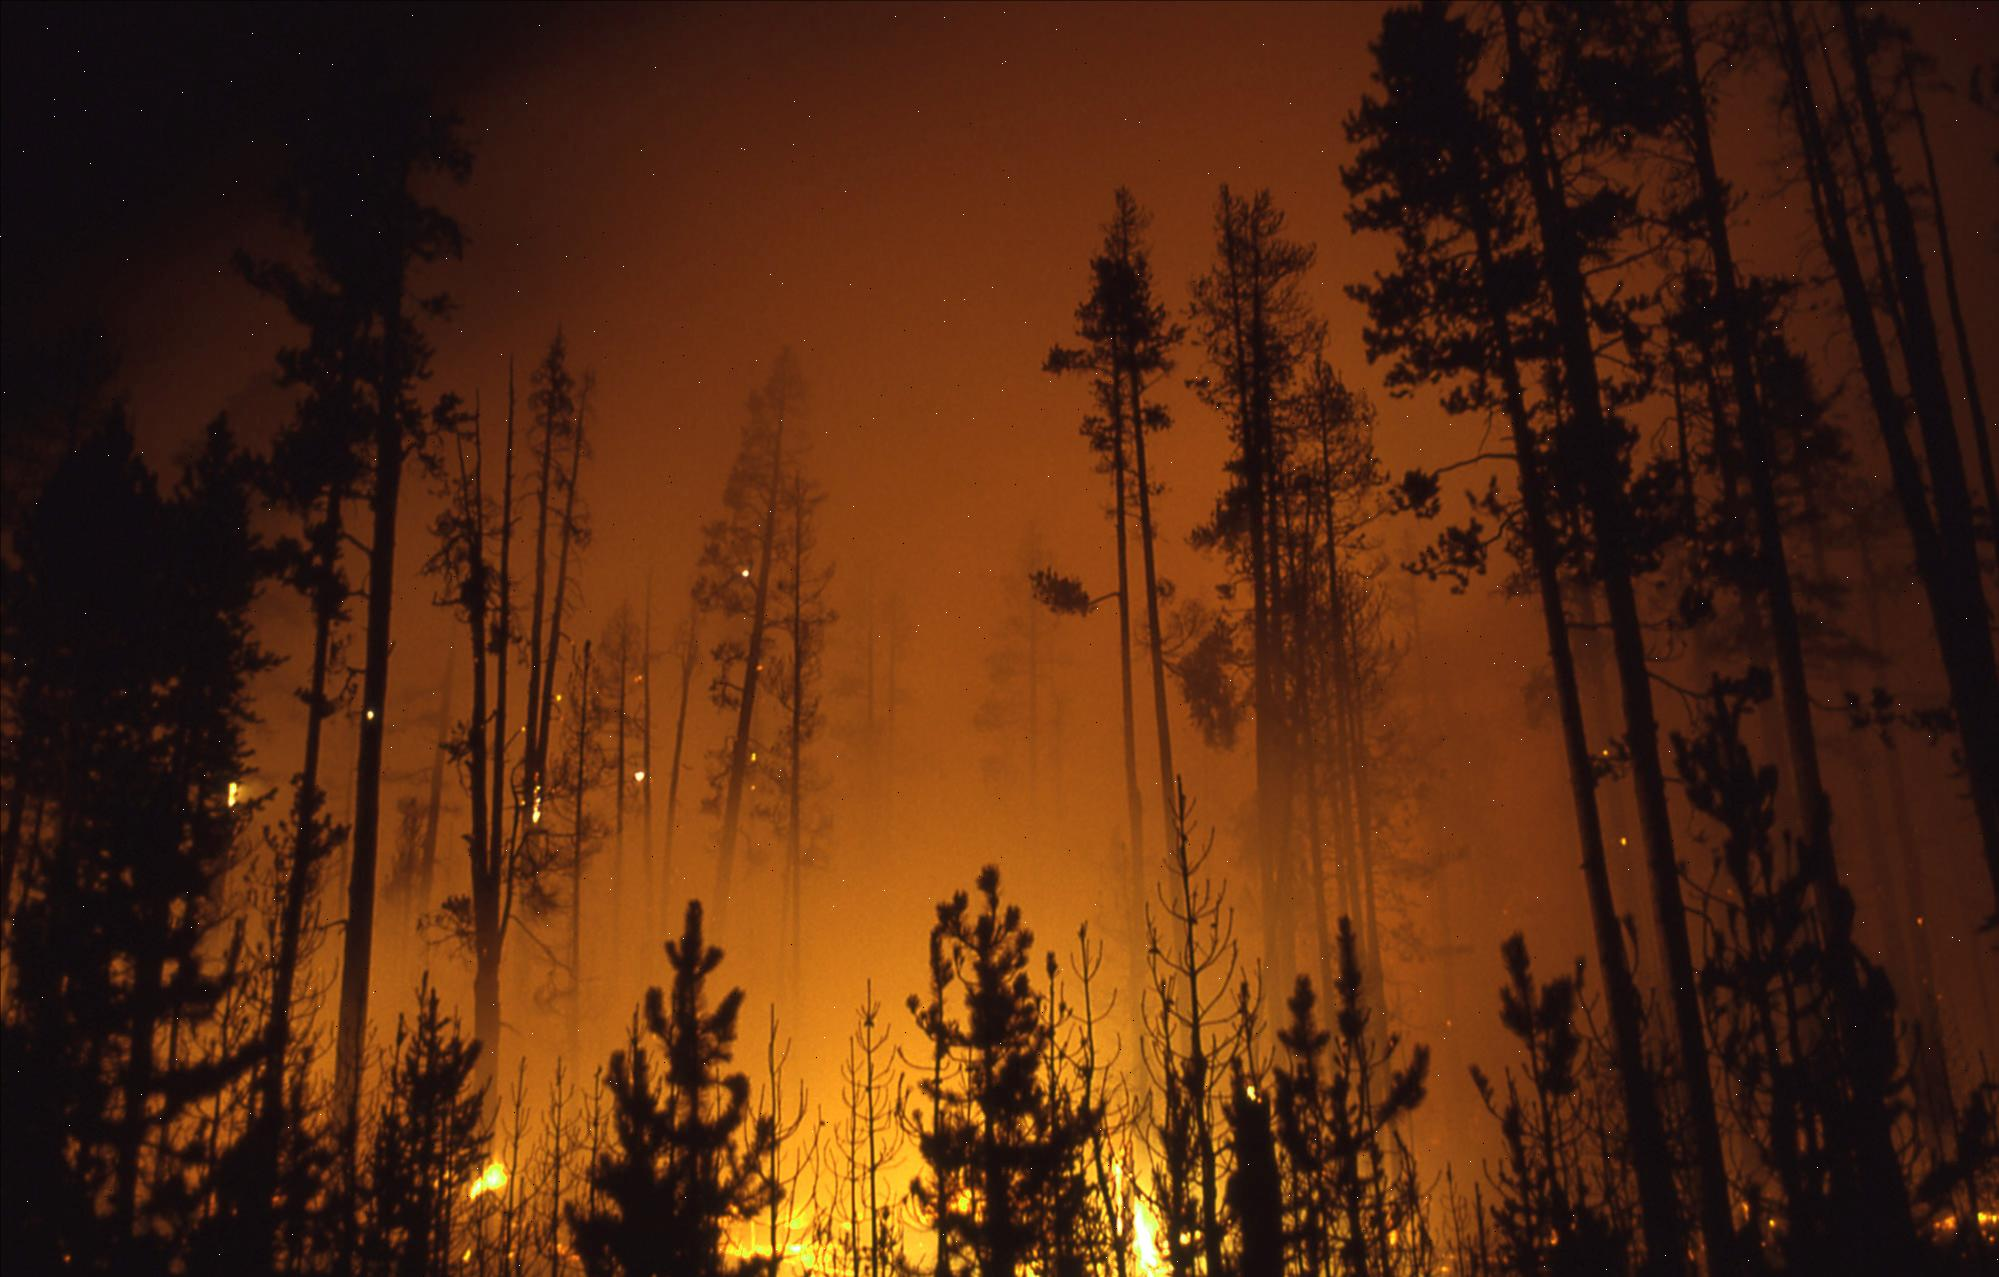fire: (434, 1102, 1313, 1277)
